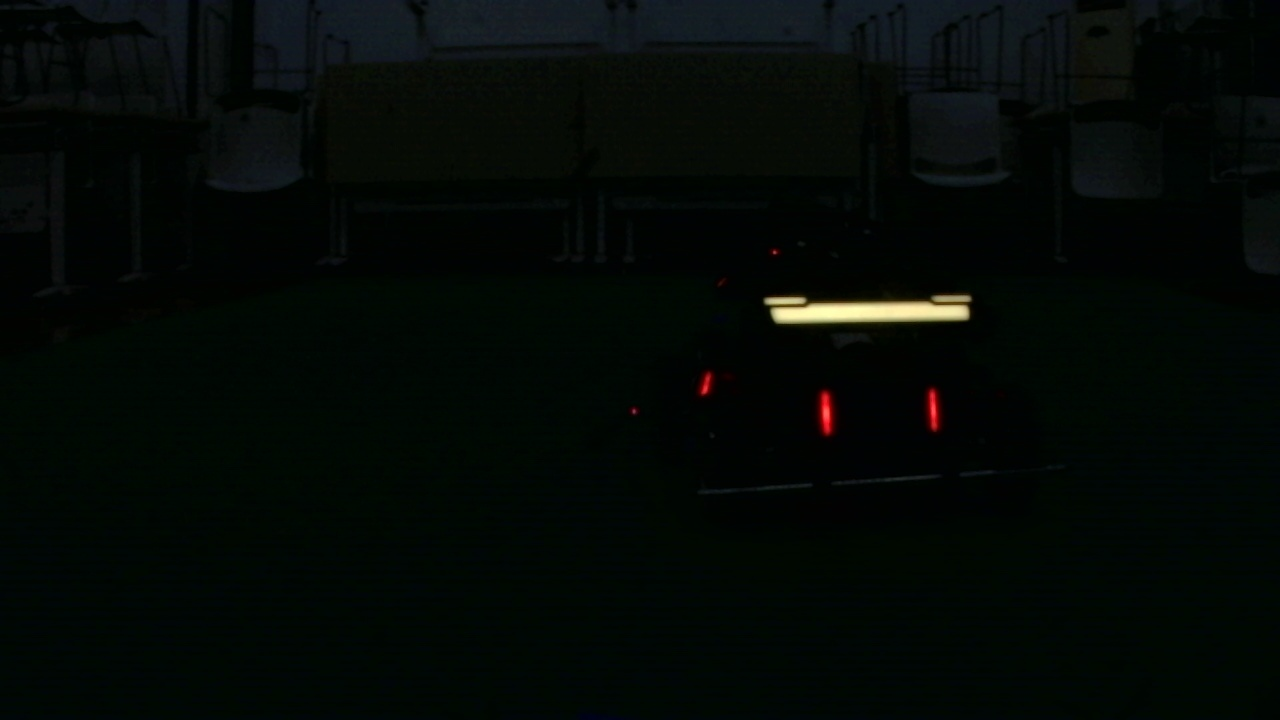lamp: (925, 384, 944, 439), (816, 385, 834, 441)
notpair1: (699, 366, 839, 443)
pair1: (818, 387, 942, 442)
